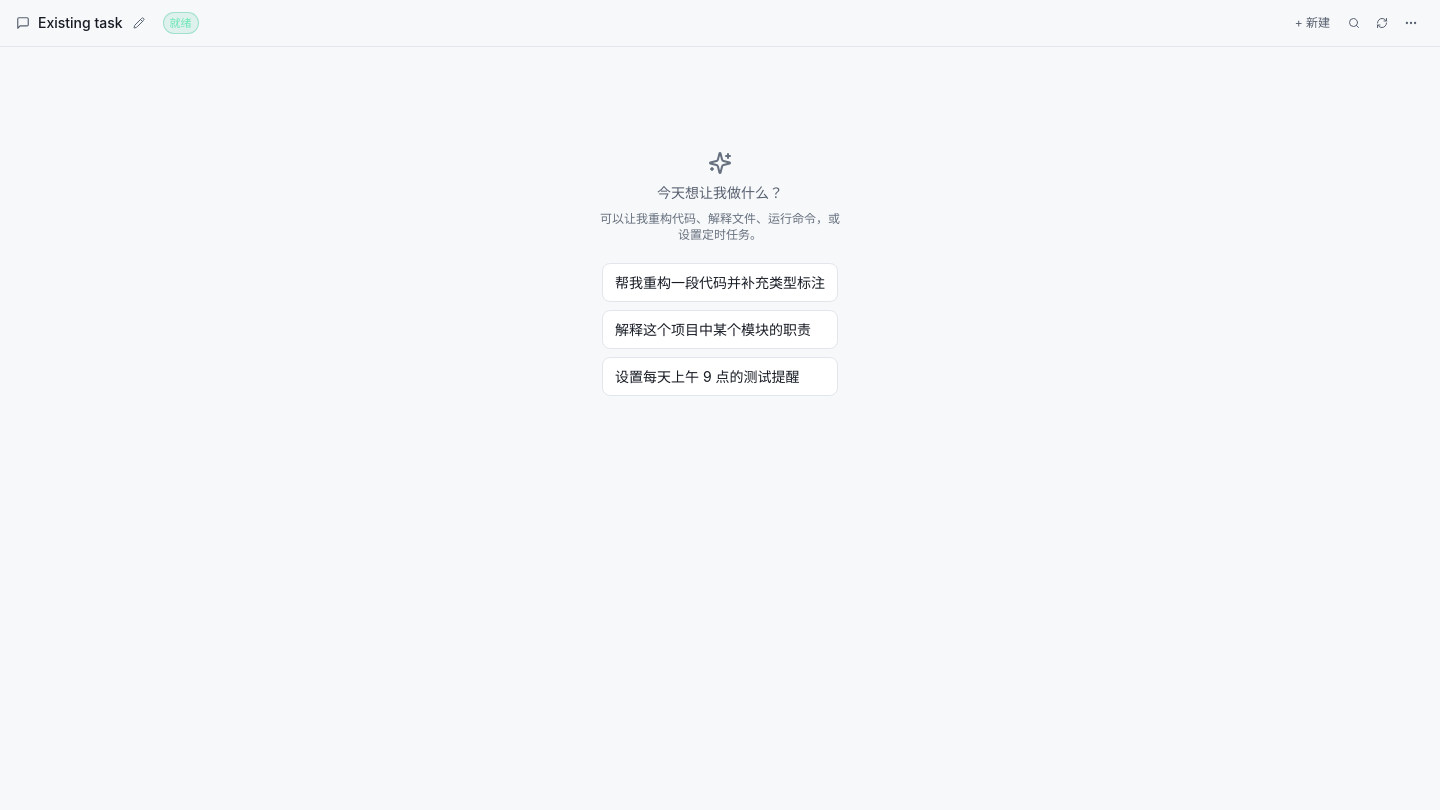
Test: ChatPanel › keeps the session when the delete confirmation is cancelled
Click the button with test id "chat-header-menu".
click(1411, 23)  # box [1398,10,1424,36]
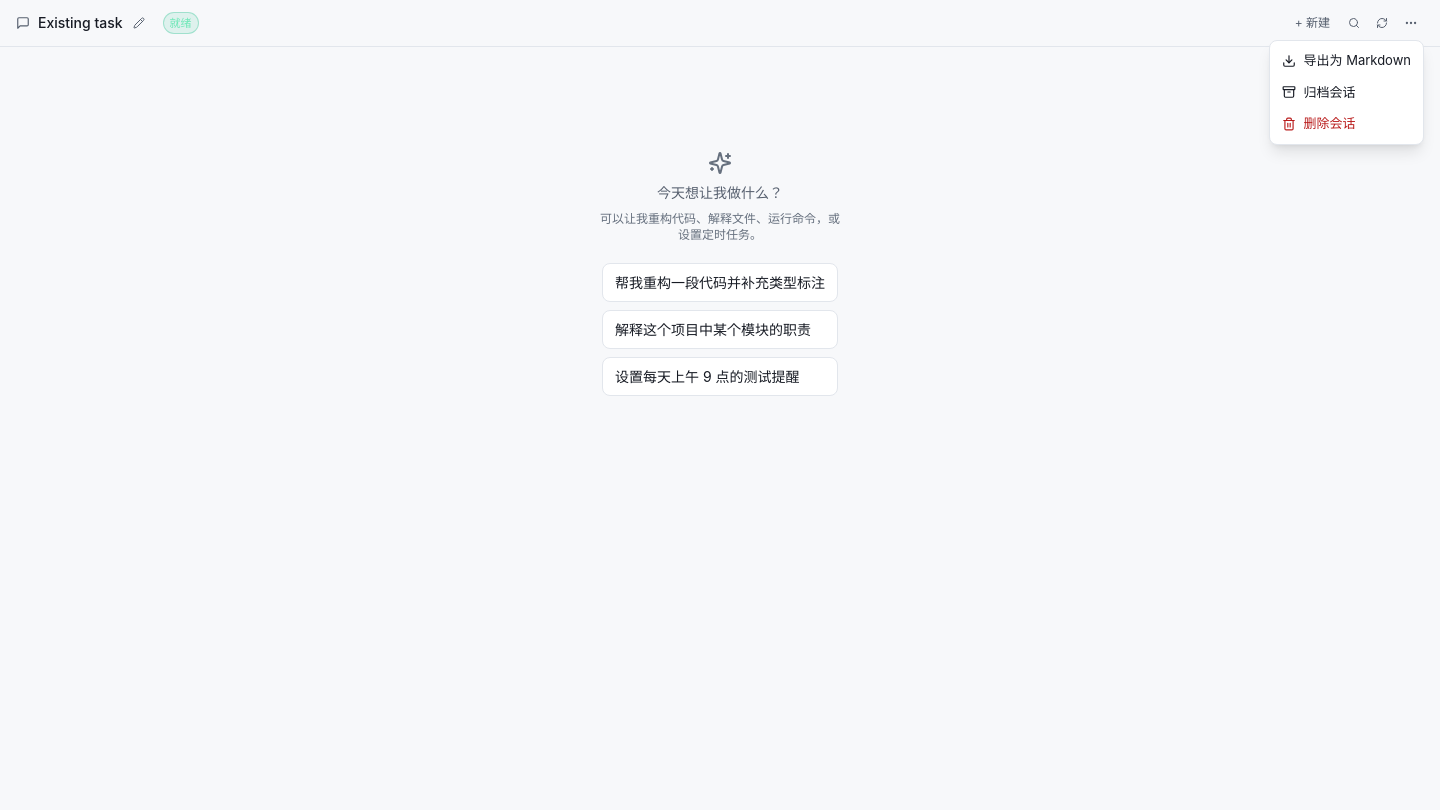
Click the menu item "删除会话".
click(1346, 124)  # box [1270,108,1423,140]
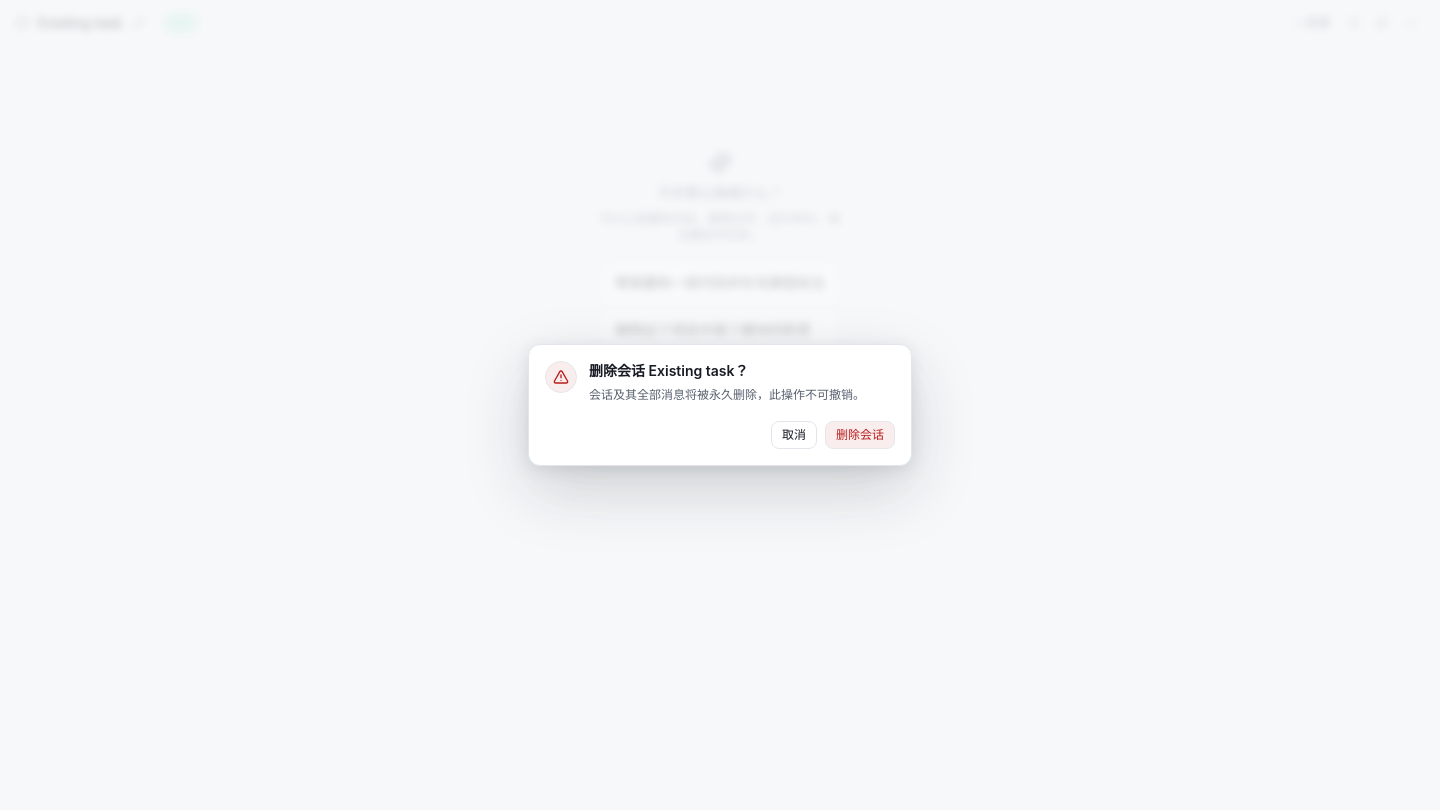
Click the button with test id "confirmation-cancel".
click(794, 435)  # box [771,421,817,449]
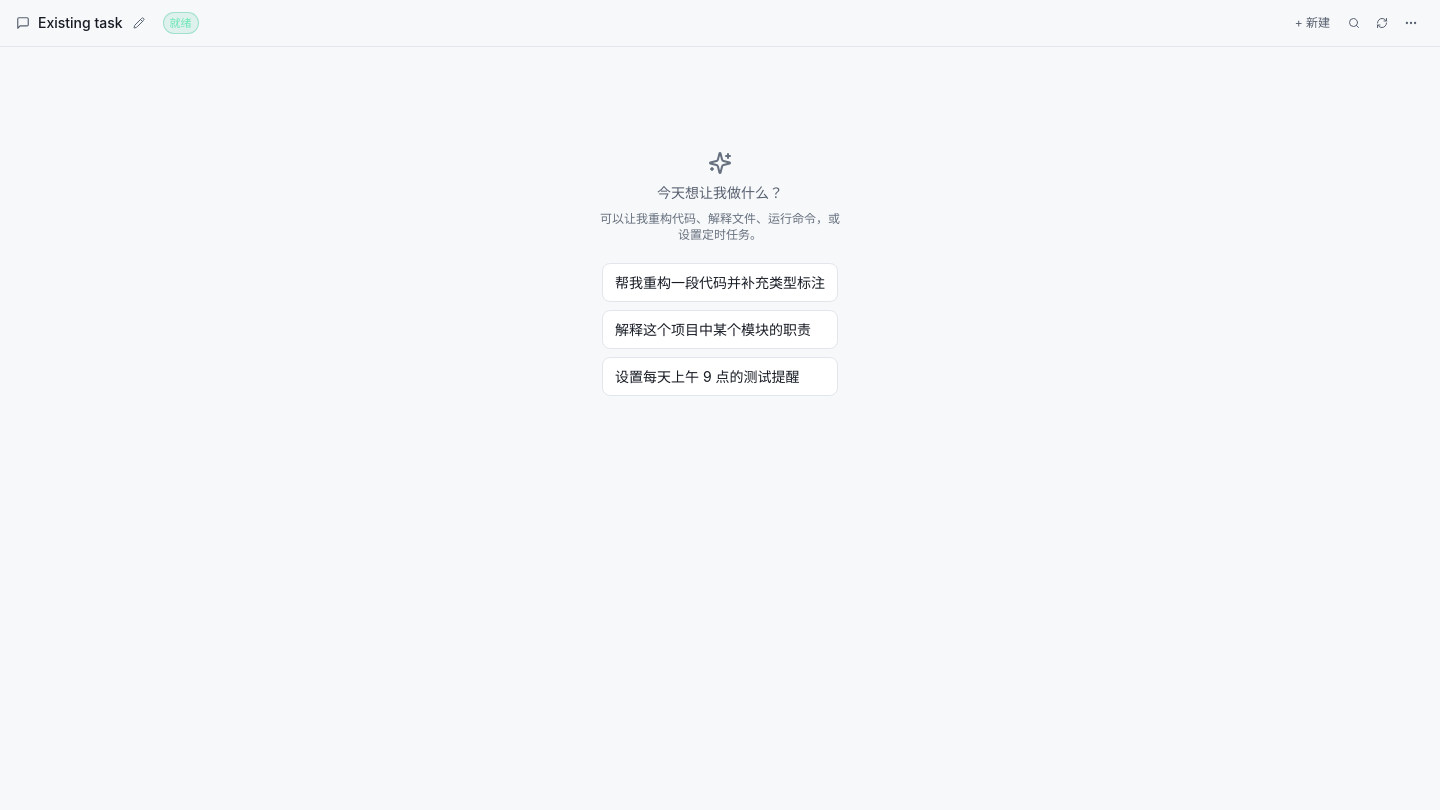
Check: the dialog with test id "confirmation-dialog" is gone
